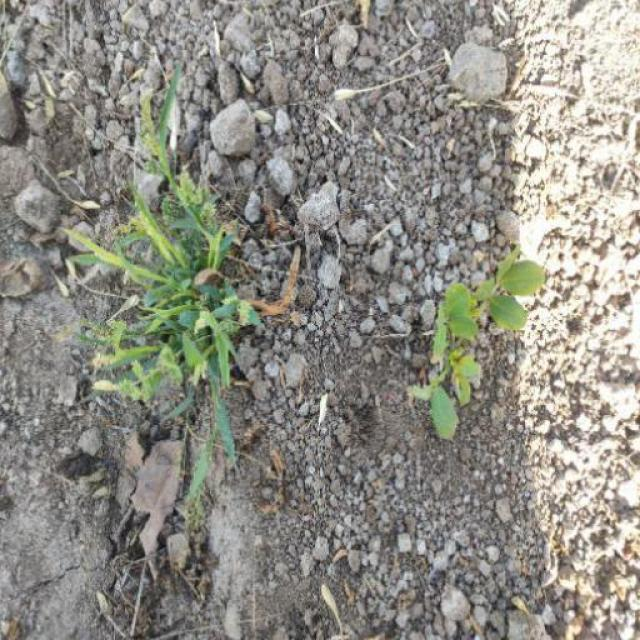weed: (56, 89, 280, 439), (395, 238, 531, 457)
